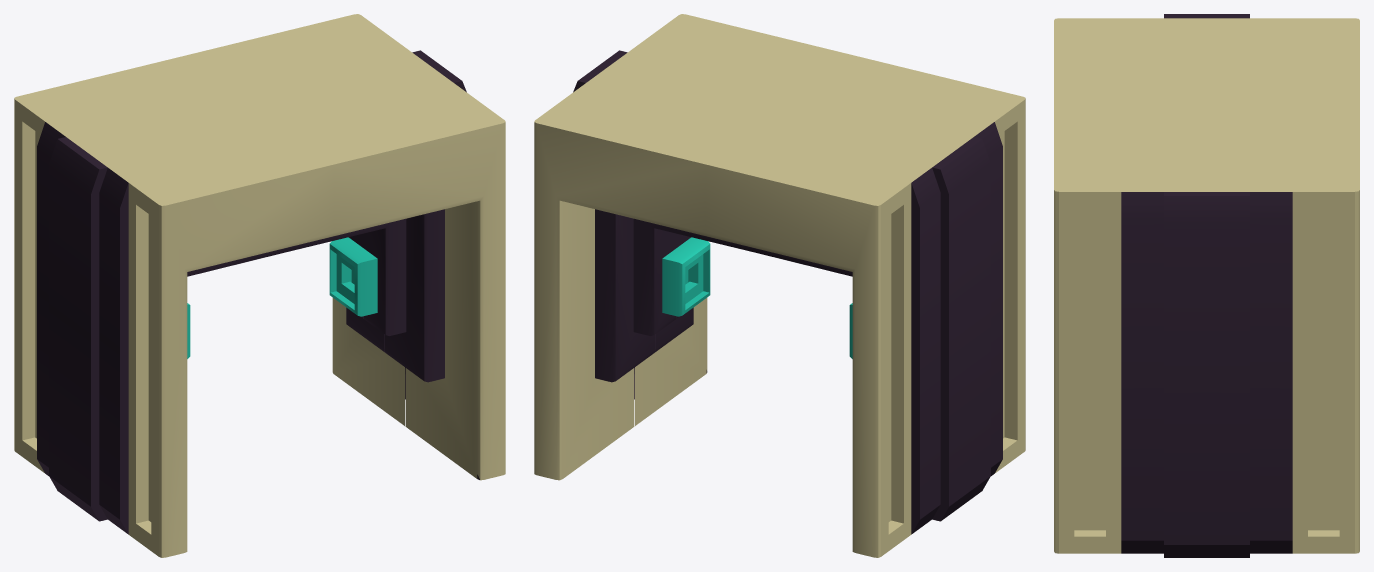
Rendered from OBJ_Arc_triomphe2.fbx.
3 renders of one model, left to right at view 1: azimuth 30°, elevation 25°; view 2: azimuth 150°, elevation 25°; view 3: azimuth 270°, elevation 25°, orthographic. The views are drawn at different scales.
Visible parts, largest first — view 1: Support_coté1; view 2: Support_coté1; view 3: Support_coté1.
Part boxes in pixels (<box>): Support_coté1: <box>14,14,505,557</box>; Support_coté1: <box>534,14,1025,557</box>; Support_coté1: <box>1054,14,1359,557</box>.
Bounding box in the file's own units: 2196 × 1944 × 1490.
